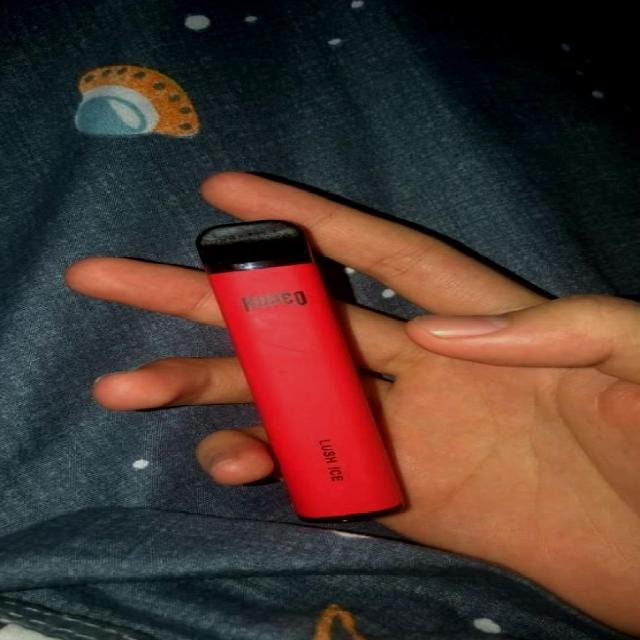Hazard: (192, 218, 410, 524)
